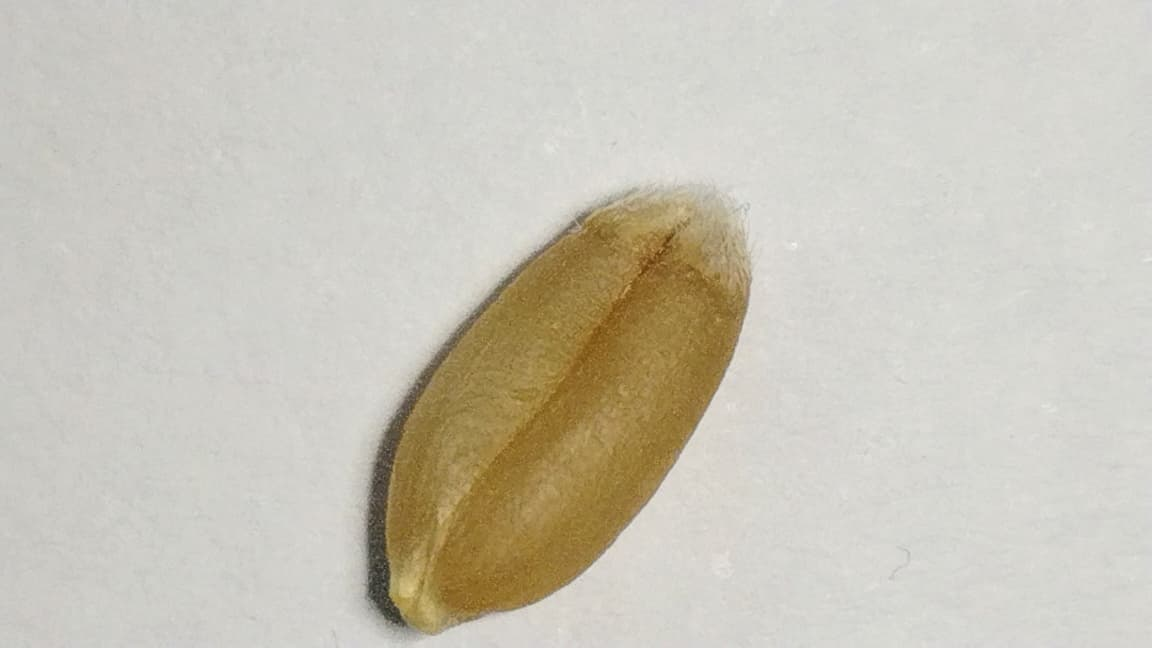healthy: (387, 194, 748, 631)
